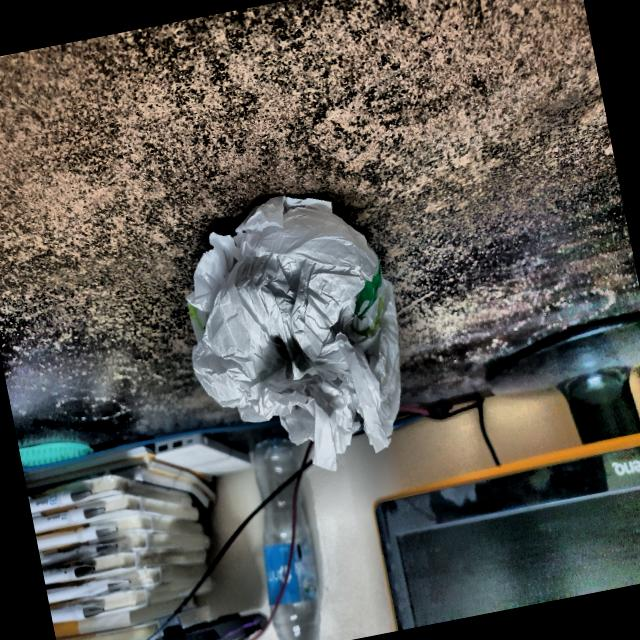plastic bag: (153, 166, 442, 504)
